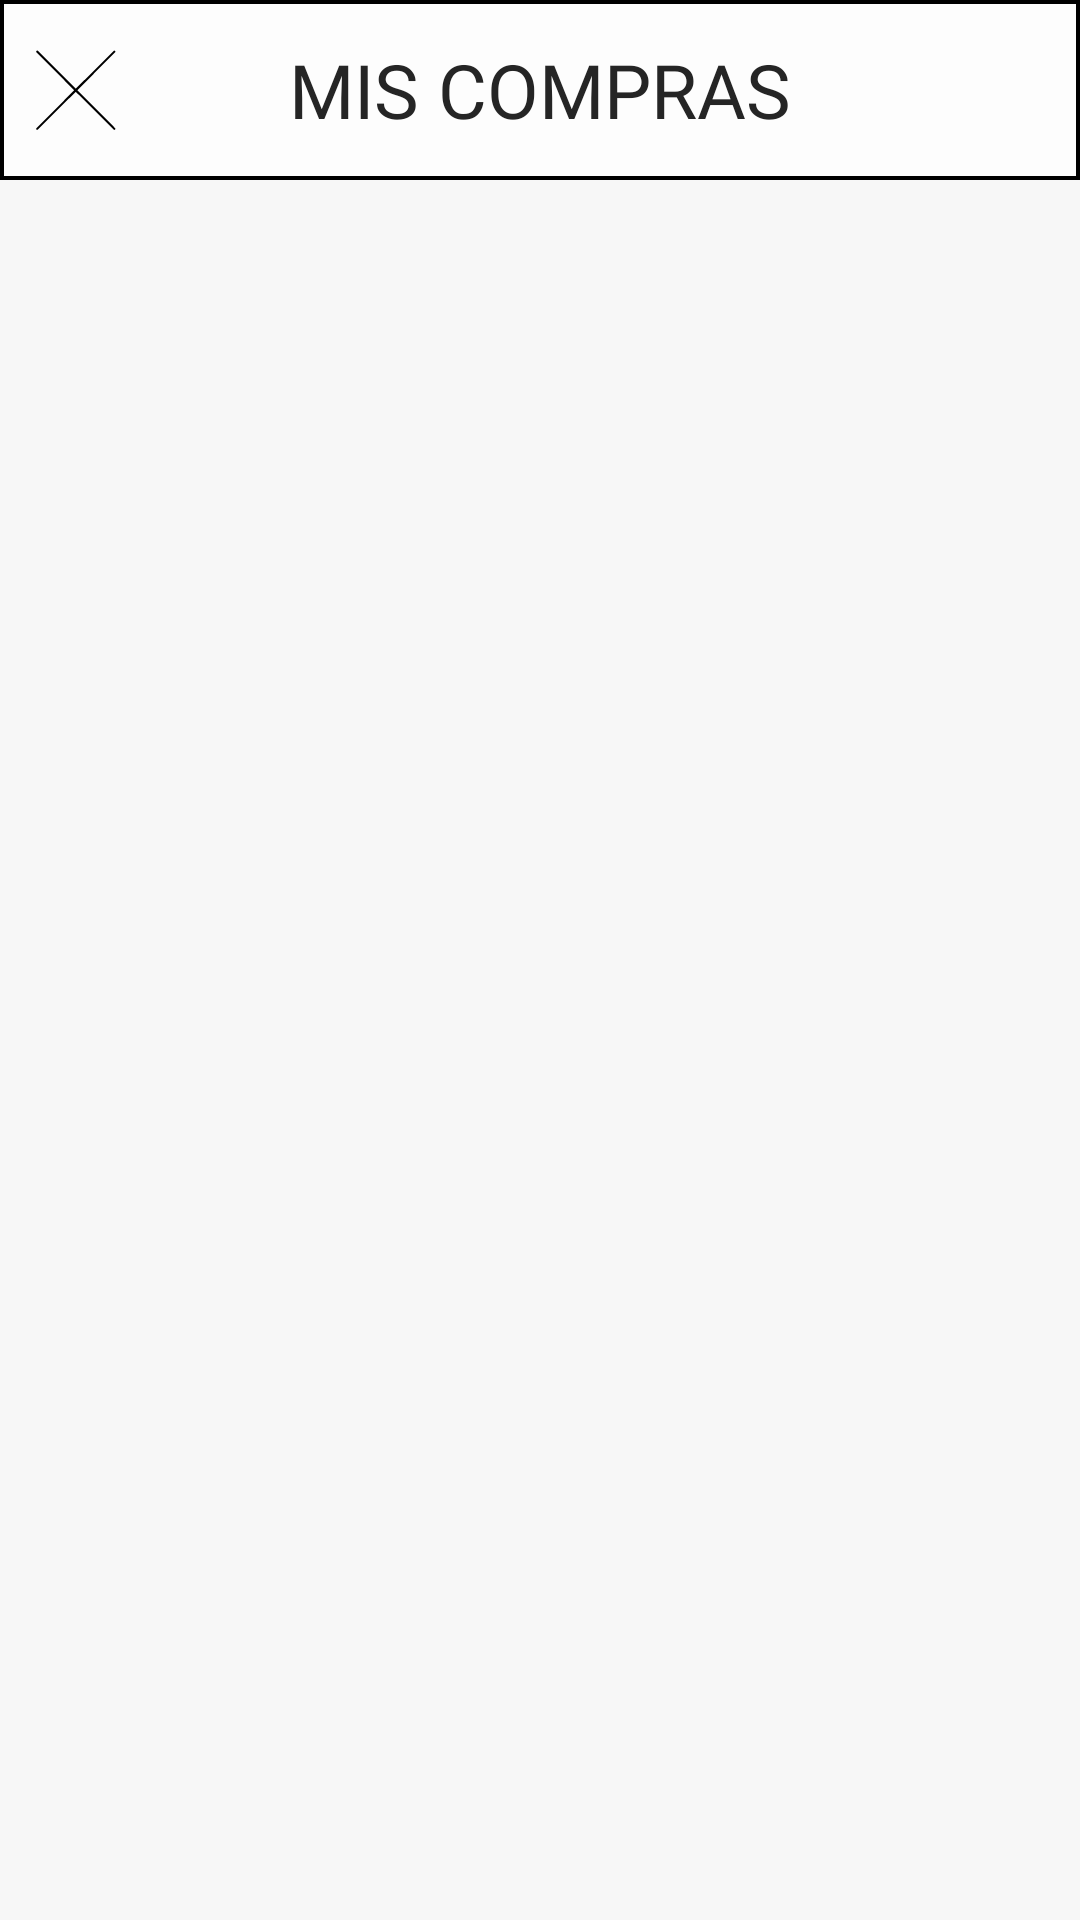

Named icons in this screenshot (1080 x 1920) and their centers, [x,y]:
cruz: [75,90]
